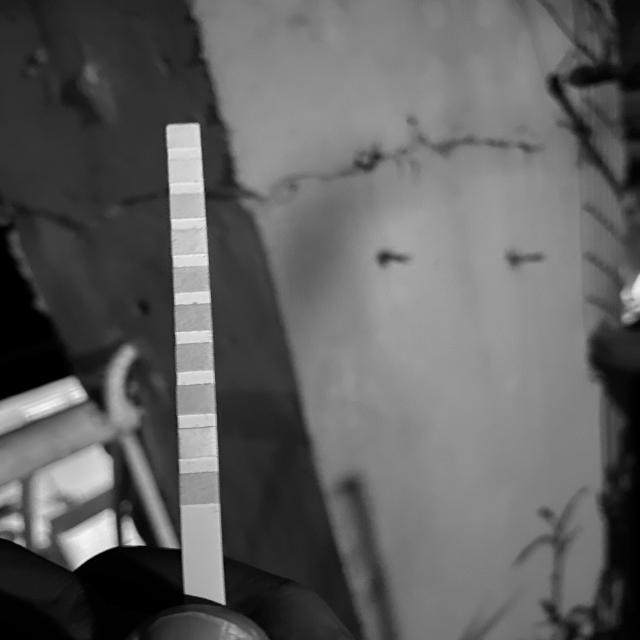Bilirubin: (180, 429, 215, 457)
Blood: (178, 305, 208, 331)
Glucose: (181, 475, 216, 503)
Ketone: (178, 387, 213, 413)
Leukocytes: (168, 126, 198, 147)
Nitrite: (169, 161, 202, 183)
Protein: (174, 230, 204, 253)
SpGravity: (178, 345, 211, 370)
Urobilinogen: (173, 194, 204, 217)
background: (0, 0, 640, 640)
pH: (176, 269, 206, 292)
strip: (165, 123, 225, 598)
